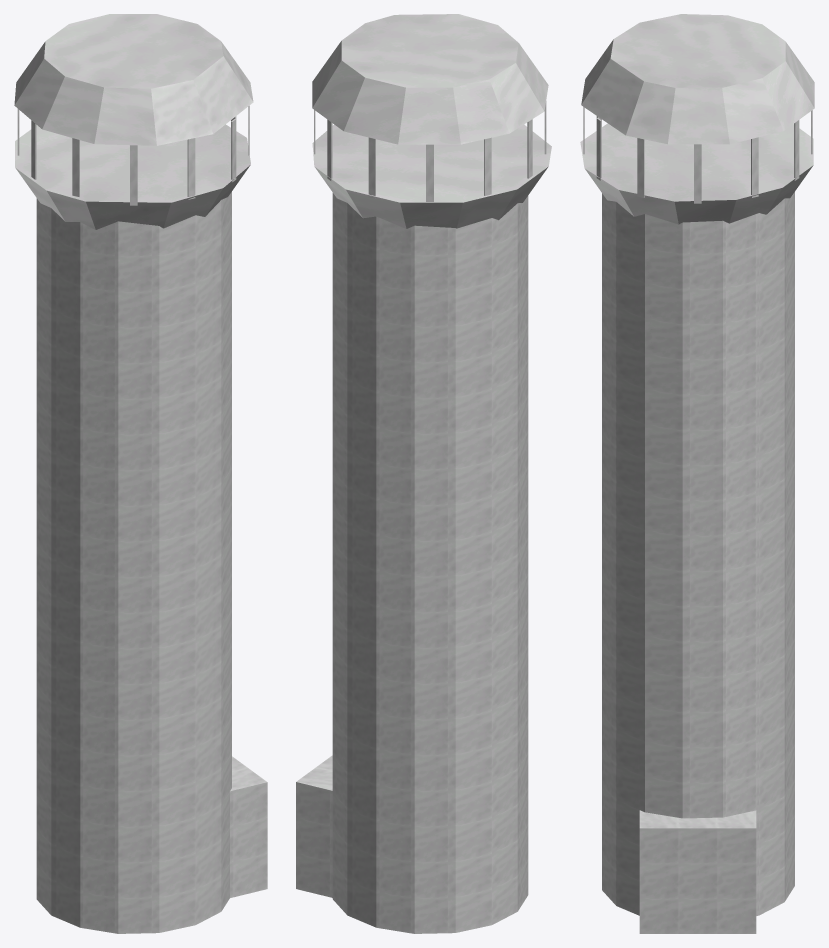
Rendered from NaviTower.fbx.
The picture shows the model from 3 angles, left to right: view 1: azimuth 30°, elevation 25°; view 2: azimuth 150°, elevation 25°; view 3: azimuth 270°, elevation 25°; orthographic projection.
Parts seen in each view (by area): view 1: node_id3; view 2: node_id3; view 3: node_id3.
Part boxes in pixels (bbox=[...]): node_id3: bbox=[14, 14, 267, 933]; node_id3: bbox=[296, 14, 551, 933]; node_id3: bbox=[580, 14, 814, 933].
Bounding box in the file's own units: 0.1319 × 0.512 × 0.1306.
Materials: 1 (1 with a texture image).
